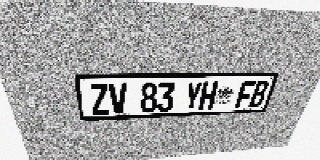3: (157, 82, 175, 112)
8: (141, 82, 158, 113)
B: (248, 80, 270, 107)
F: (235, 81, 256, 108)
H: (198, 81, 219, 110)
V: (108, 83, 127, 114)
Y: (183, 82, 203, 111)
Z: (89, 83, 110, 115)
